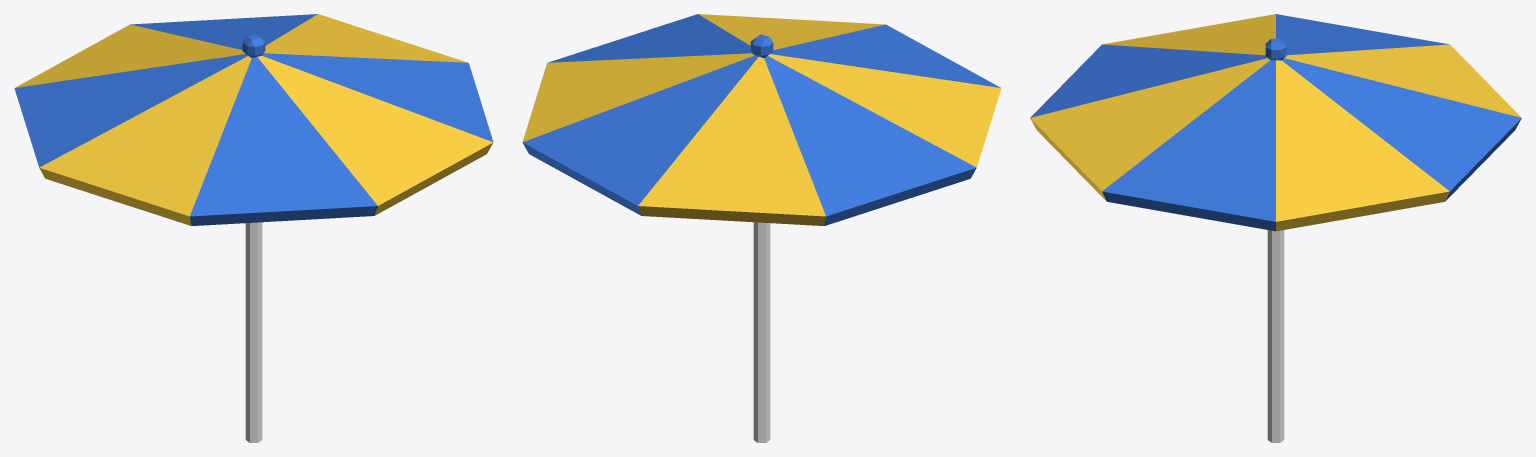
File: BlueBeachUmbrella.fbx
3 renders of one model, left to right at view 1: azimuth 30°, elevation 25°; view 2: azimuth 150°, elevation 25°; view 3: azimuth 270°, elevation 25°, orthographic.
Visible parts, largest first — view 1: BlueBeachUmbrella; view 2: BlueBeachUmbrella; view 3: BlueBeachUmbrella.
Boxes of the visible parts, x1=… form: BlueBeachUmbrella: x1=14, y1=14, x2=493, y2=442; BlueBeachUmbrella: x1=522, y1=14, x2=1001, y2=442; BlueBeachUmbrella: x1=1030, y1=14, x2=1521, y2=442.
Bounding box in the file's own units: 7.2 × 6.45 × 7.2.
Materials: 1 (1 with a texture image).
